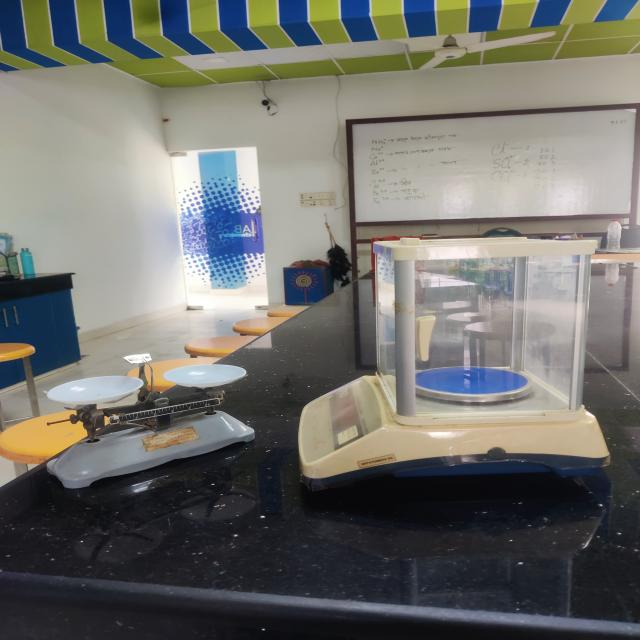Mechanical_Balance_Scale: (28, 332, 265, 520)
Precision_Weight_Scale: (284, 221, 630, 521)
